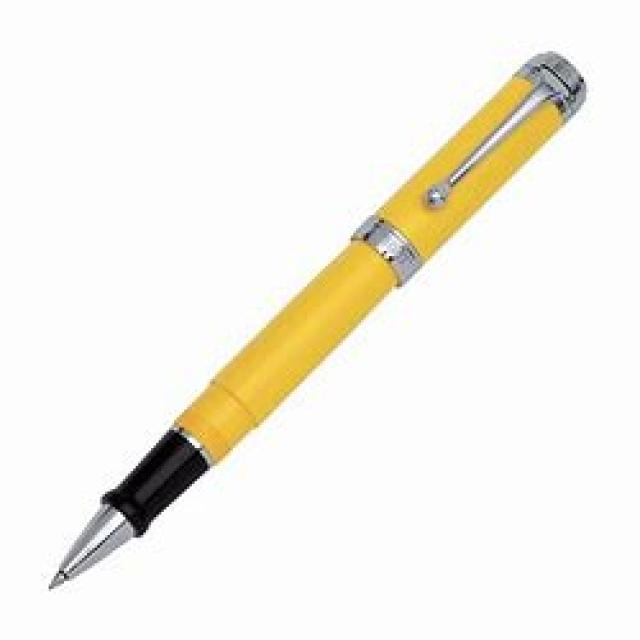pen: (45, 49, 592, 594)
